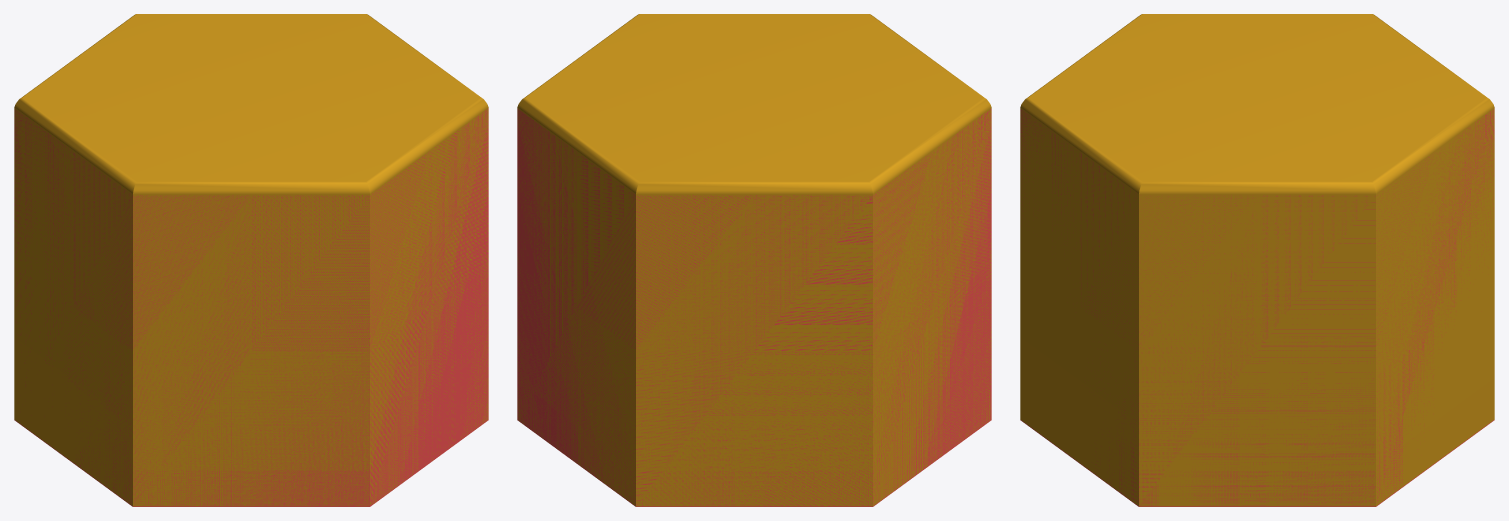
The model's file is cube_basic.fbx.
3 views of the same model, side by side, from view 1: azimuth 30°, elevation 25°; view 2: azimuth 150°, elevation 25°; view 3: azimuth 270°, elevation 25° (orthographic).
Parts seen in each view (by area): view 1: cube1yellow1, cube1red; view 2: cube1yellow1, cube1red; view 3: cube1yellow1, cube1red.
Boxes of the visible parts, left/top/right/bottom form: cube1yellow1: left=14, top=14, right=488, bottom=506; cube1red: left=14, top=108, right=488, bottom=506; cube1yellow1: left=517, top=14, right=991, bottom=506; cube1red: left=517, top=108, right=991, bottom=506; cube1yellow1: left=1020, top=14, right=1494, bottom=506; cube1red: left=1020, top=108, right=1494, bottom=506.
Bounding box in the file's own units: 3.66 × 3.17 × 4.23.
